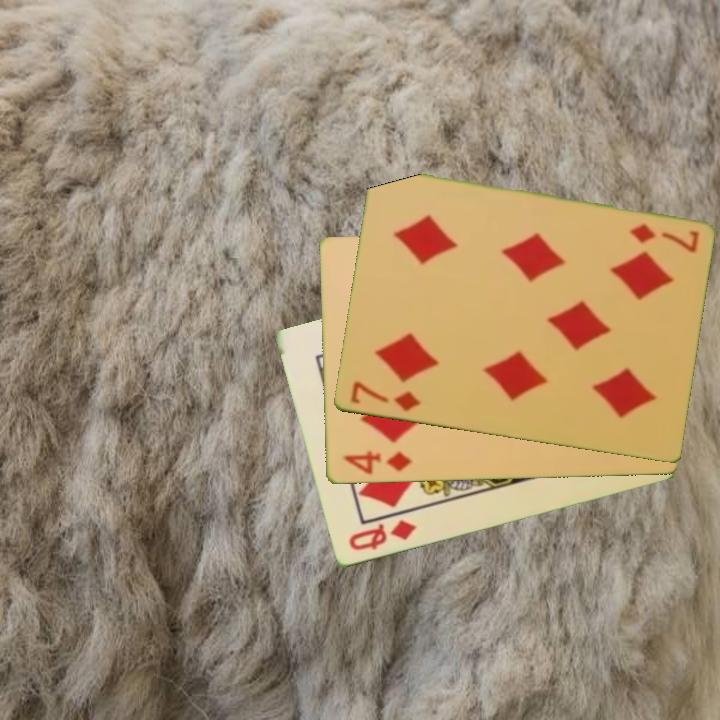4d: (340, 448, 414, 478)
7d: (346, 378, 423, 415), (625, 220, 702, 255)
Qd: (345, 516, 419, 554)
